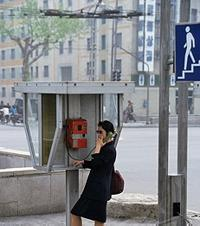person: (69, 120, 117, 225)
